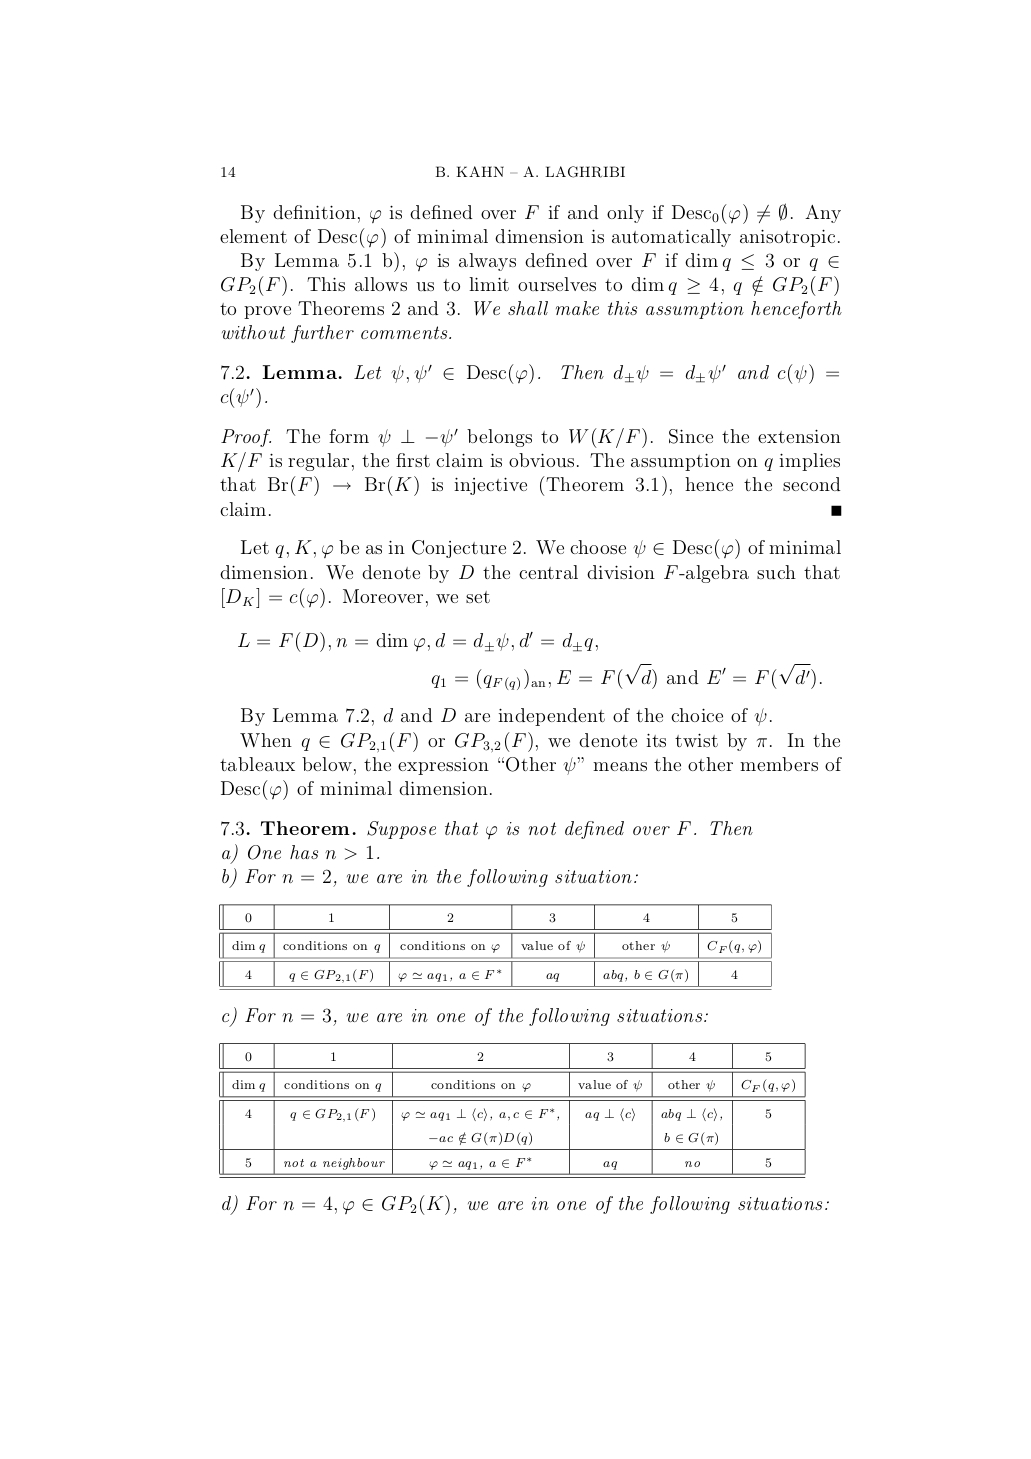Table: (219, 1041, 804, 1178), (219, 902, 771, 988)
formula: (431, 661, 821, 690), (238, 630, 597, 653)
